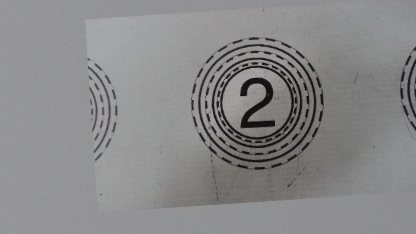2r: (184, 32, 328, 174)
